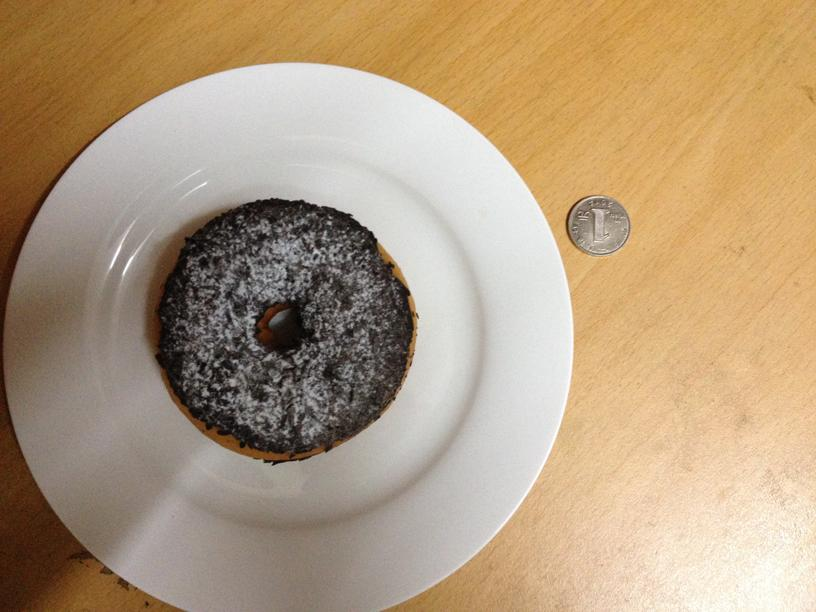coin: (568, 191, 629, 255)
doughnut: (157, 197, 415, 461)
